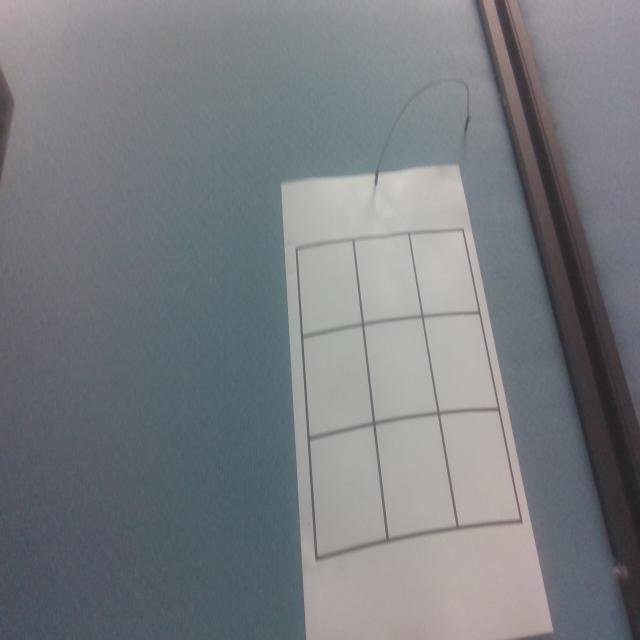null: (304, 426, 387, 558), (371, 415, 455, 537), (439, 407, 520, 531), (297, 328, 373, 439), (423, 311, 497, 418), (361, 318, 436, 420), (293, 241, 362, 334), (351, 233, 419, 322), (411, 229, 476, 318)
table: (255, 213, 524, 565)
